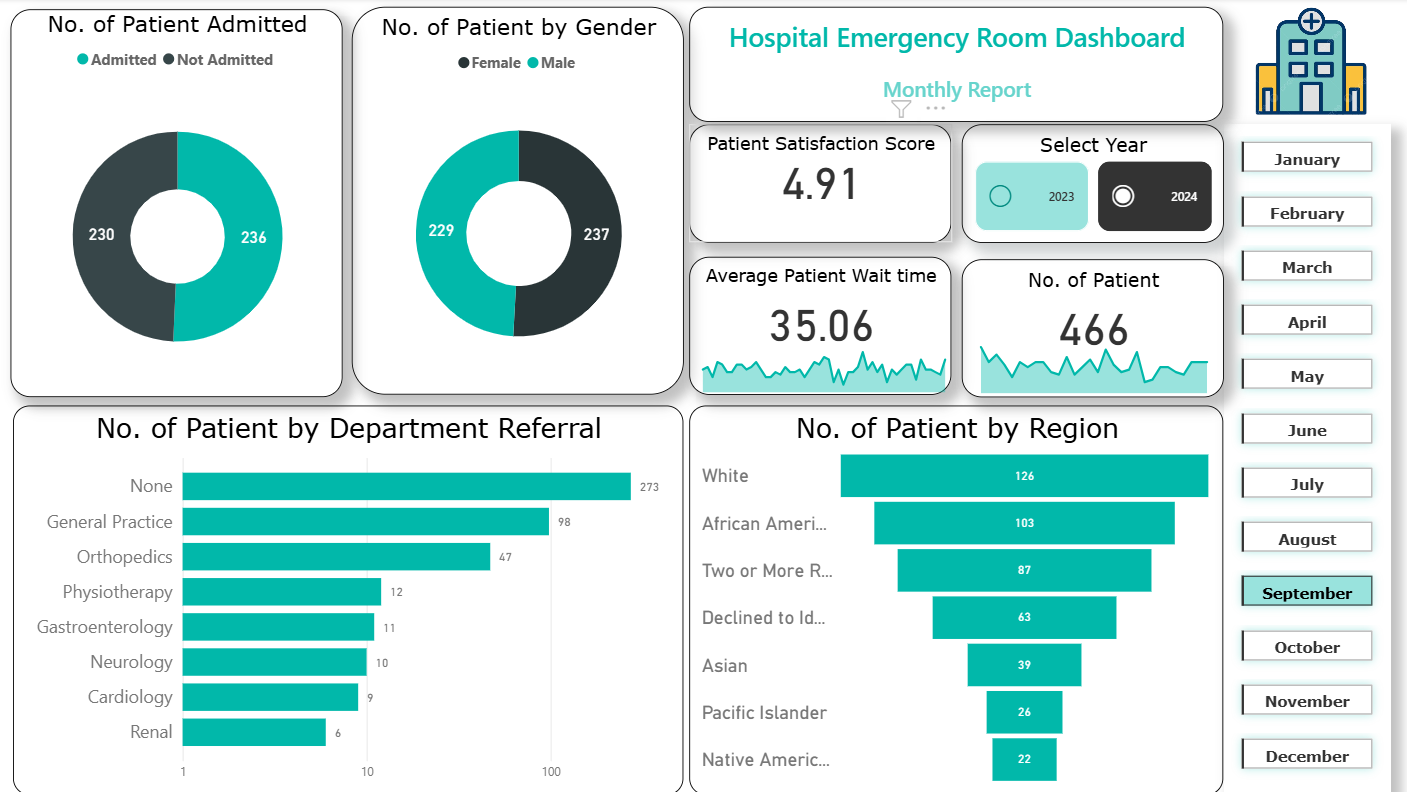

The page's visual inventory and layout, read from the dashboard file:
{"tool":"powerbi","page":{"name":"Page 1","canvas":[1280,720],"ordinal":0},"visuals":[{"type":"donutChart","title":"No. of Patient by Gender","fields":{"Category":["P01_ Hospital_Emergency_Room_Da.Patient Gender"],"Y":["CountNonNull(P01_ Hospital_Emergency_Room_Da.Patient Admission Flag)"]},"box":[319.4,8,300.2,350],"z":0},{"type":"donutChart","title":"No. of Patient Admitted ","fields":{"Y":["CountNonNull(P01_ Hospital_Emergency_Room_Da.Patient Id)"],"Category":["P01_ Hospital_Emergency_Room_Da.Admission Status"]},"box":[10.8,9.6,300.2,350.6],"z":1000},{"type":"card","title":"Average Patient Wait time","fields":{"Values":["Avg(P01_ Hospital_Emergency_Room_Da.Patient Waittime)"]},"box":[625,233.2,236.7,124.8],"z":2000},{"type":"advancedSlicerVisual","title":"Select Year","fields":{"Values":["P01_ Hospital_Emergency_Room_Da.Patient Admission Date.Variation.Date Hierarchy.Year"]},"box":[871,114.3,236.7,107.3],"z":3000},{"type":"barChart","title":"No. of Patient by Department Referral","fields":{"Category":["P01_ Hospital_Emergency_Room_Da.Department Referral"],"Y":["CountNonNull(P01_ Hospital_Emergency_Room_Da.Patient Id)"]},"box":[13.5,368.6,605.3,351.7],"z":4000},{"type":"funnel","title":"No. of Patient by Region","fields":{"Category":["P01_ Hospital_Emergency_Room_Da.Patient Race"],"Y":["CountNonNull(P01_ Hospital_Emergency_Room_Da.Patient Id)"]},"box":[625,368.4,482.7,352.1],"z":5000},{"type":"card","title":"Patient Satisfaction Score","fields":{"Values":["Avg(P01_ Hospital_Emergency_Room_Da.Patient Satisfaction Score)"]},"box":[625,114.3,236.7,107.3],"z":6000},{"type":"listSlicer","fields":{"Values":["P01_ Hospital_Emergency_Room_Da.Patient Admission Date.Variation.Date Hierarchy.Month"]},"box":[1107.7,114,150.2,606.4],"z":7000},{"type":"stackedAreaChart","fields":{"Y":["CountNonNull(P01_ Hospital_Emergency_Room_Da.Patient Id)"],"Category":["P01_ Hospital_Emergency_Room_Da.Patient Waittime"]},"box":[578.3,297.3,292.7,65.3],"z":8000},{"type":"card","title":"No. of Patient","fields":{"Values":["CountNonNull(P01_ Hospital_Emergency_Room_Da.Patient Id)"]},"box":[871,235.5,236.7,124.8],"z":9000},{"type":"stackedAreaChart","fields":{"Y":["CountNonNull(P01_ Hospital_Emergency_Room_Da.Patient Id)"],"Category":["P01_ Hospital_Emergency_Room_Da.Patient Admission Date.Variation.Date Hierarchy.Day"]},"box":[866.3,297.3,241.4,65.3],"z":10000},{"type":"textbox","box":[624.4,7.9,482.1,103.9],"z":11000},{"type":"image","box":[1114.5,0,143.4,114],"z":12000}]}

Visuals, with their boxes in screenshot pixels (x1, y1, x2, y2), scaled from the page's 1280x720 canvas onto the 1407x792 screenshot:
"No. of Patient by Gender" donutChart: rect(351, 9, 681, 394)
"No. of Patient Admitted " donutChart: rect(12, 11, 342, 396)
"Average Patient Wait time" card: rect(687, 257, 947, 394)
"Select Year" advancedSlicerVisual: rect(957, 126, 1218, 244)
"No. of Patient by Department Referral" barChart: rect(15, 405, 680, 791)
"No. of Patient by Region" funnel: rect(687, 405, 1218, 791)
"Patient Satisfaction Score" card: rect(687, 126, 947, 244)
listSlicer - P01_ Hospital_Emergency_Room_Da.Patient Admission Date.Variation.Date Hierarchy.Month: rect(1218, 125, 1383, 791)
stackedAreaChart - CountNonNull(P01_ Hospital_Emergency_Room_Da.Patient Id) x P01_ Hospital_Emergency_Room_Da.Patient Waittime: rect(636, 327, 957, 399)
"No. of Patient" card: rect(957, 259, 1218, 396)
stackedAreaChart - CountNonNull(P01_ Hospital_Emergency_Room_Da.Patient Id) x P01_ Hospital_Emergency_Room_Da.Patient Admission Date.Variation.Date Hierarchy.Day: rect(952, 327, 1218, 399)
textbox: rect(686, 9, 1216, 123)
image: rect(1225, 0, 1383, 125)
